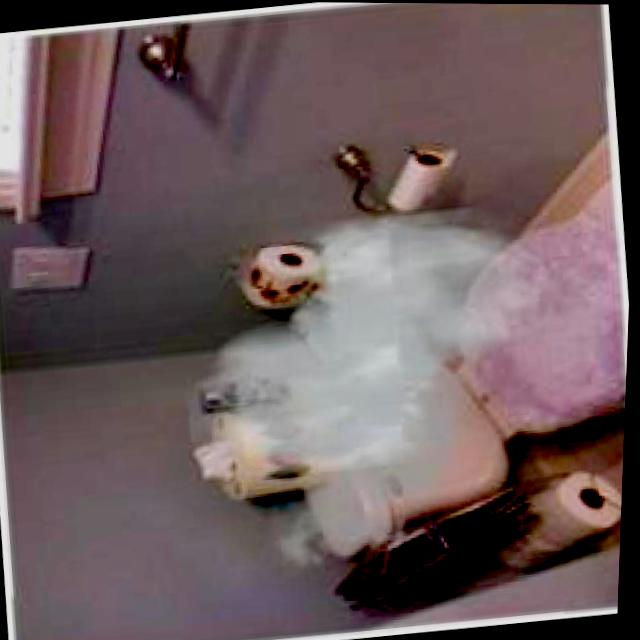Smoke: (168, 197, 577, 590)
